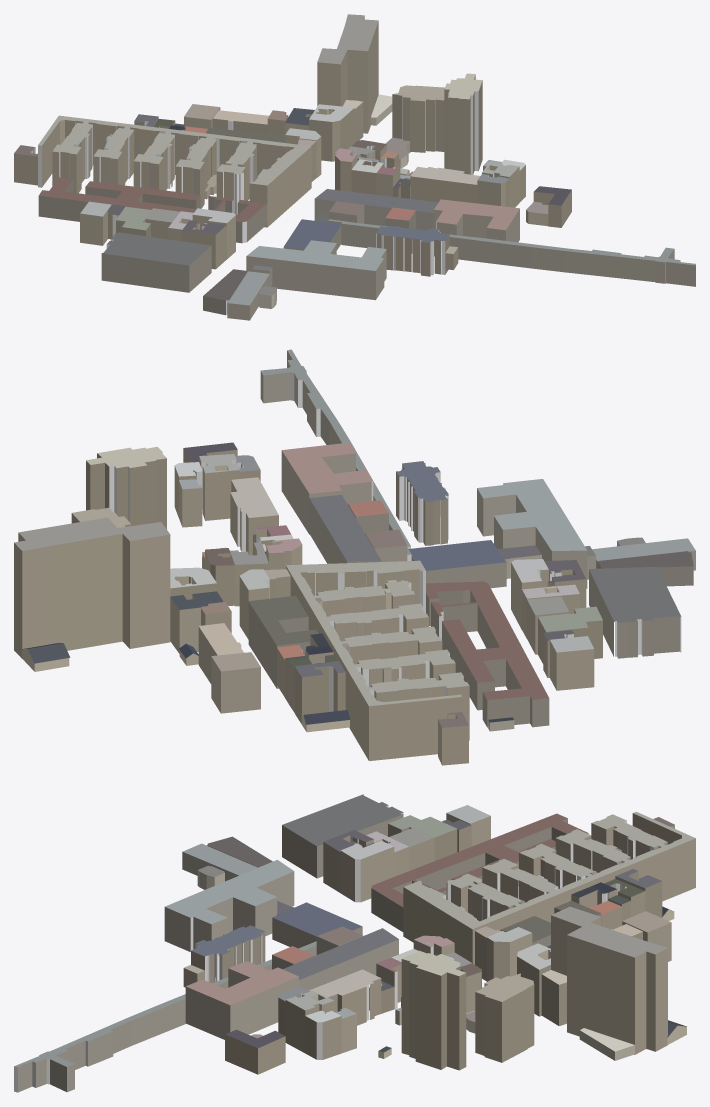
3 views of the same model, one above another, from view 1: azimuth 30°, elevation 25°; view 2: azimuth 150°, elevation 25°; view 3: azimuth 270°, elevation 25° (orthographic). The views are drawn at different scales.
Parts seen in each view (by area): view 1: tuile; view 2: tuile; view 3: tuile.
Part boxes in pixels (bbox=[...]): tuile: bbox=[14, 14, 695, 320]; tuile: bbox=[14, 349, 695, 765]; tuile: bbox=[14, 794, 695, 1092].
Bounding box in the file's own units: 298 × 55.4 × 333.
